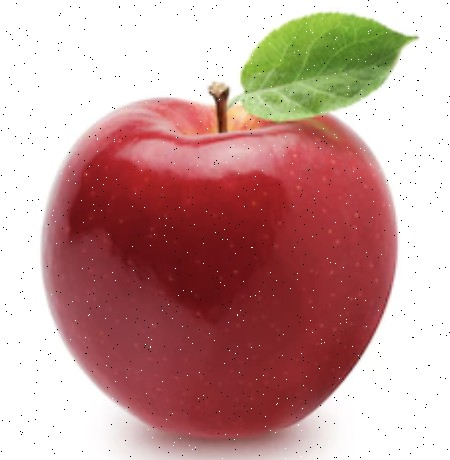fresh_apple: (42, 93, 397, 437)
